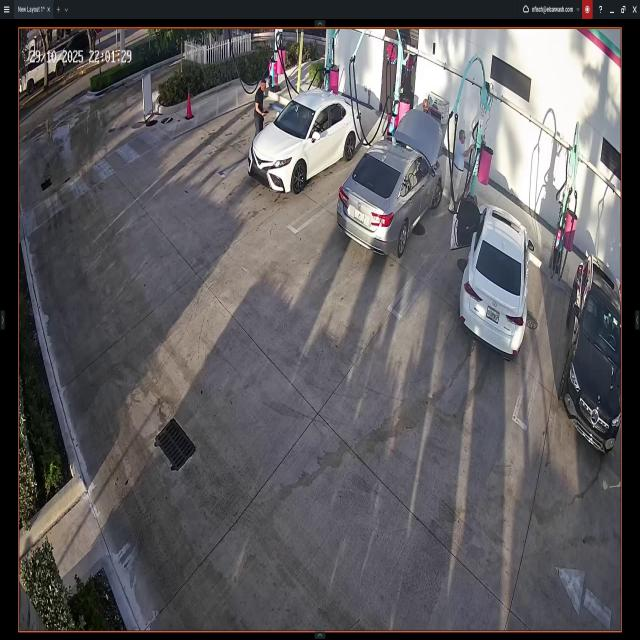Car: (335, 117, 443, 256), (248, 88, 364, 190), (458, 194, 528, 357), (564, 257, 622, 452)
